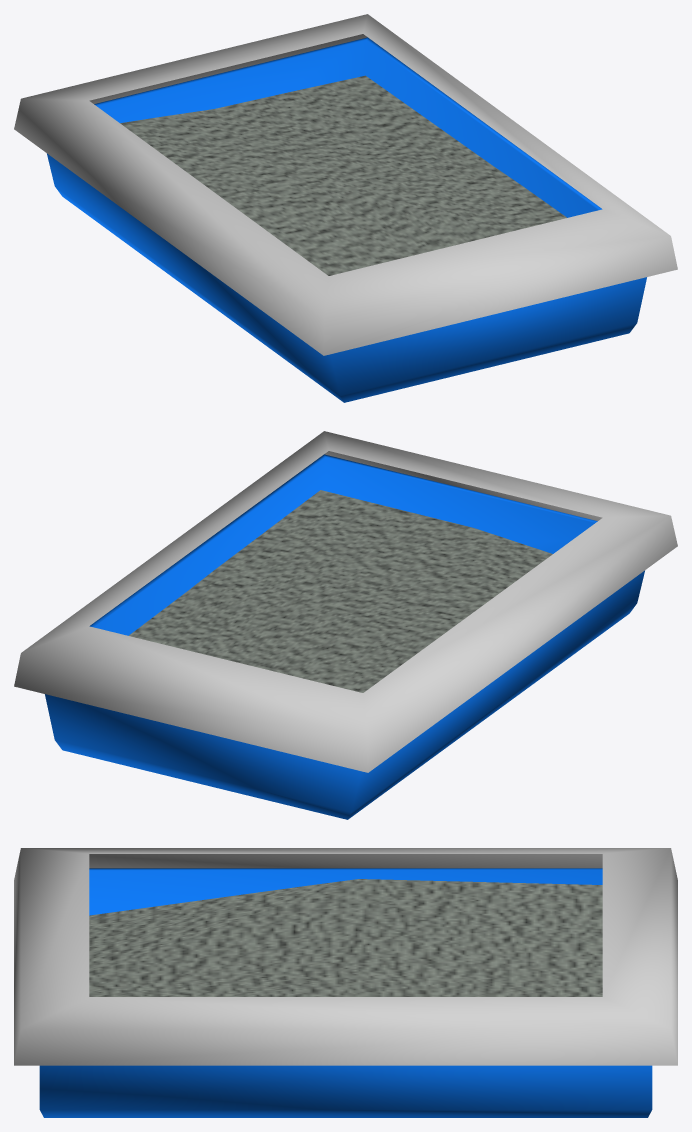
The model's file is Kitty_Box_C.FBX.
The picture shows the model from 3 angles, top to bottom: view 1: azimuth 30°, elevation 25°; view 2: azimuth 150°, elevation 25°; view 3: azimuth 270°, elevation 25°; orthographic projection. The views are drawn at different scales.
Visible parts, largest first — view 1: Kitty Box; view 2: Kitty Box; view 3: Kitty Box.
Boxes of the visible parts, <box> form: Kitty Box: <box>14,14,677,402</box>; Kitty Box: <box>14,431,677,819</box>; Kitty Box: <box>14,848,677,1117</box>.
Size of the model in its own units: 107 by 32.85 by 163.
